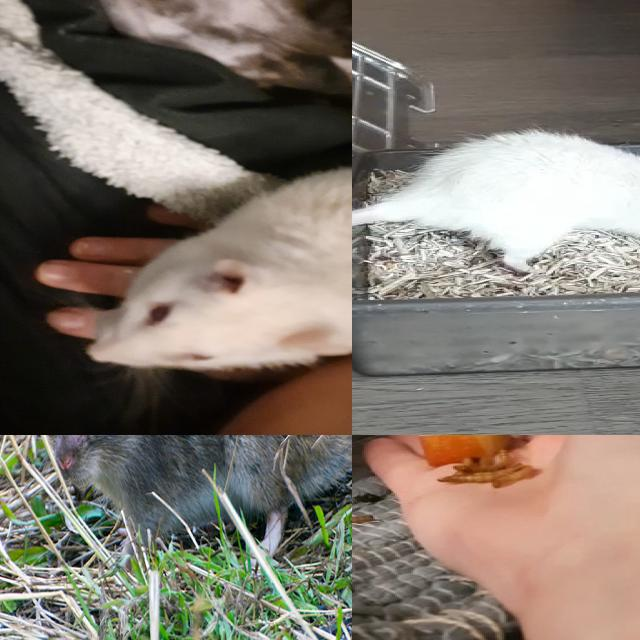rat: (87, 165, 352, 373), (410, 125, 640, 278), (56, 435, 352, 533)
